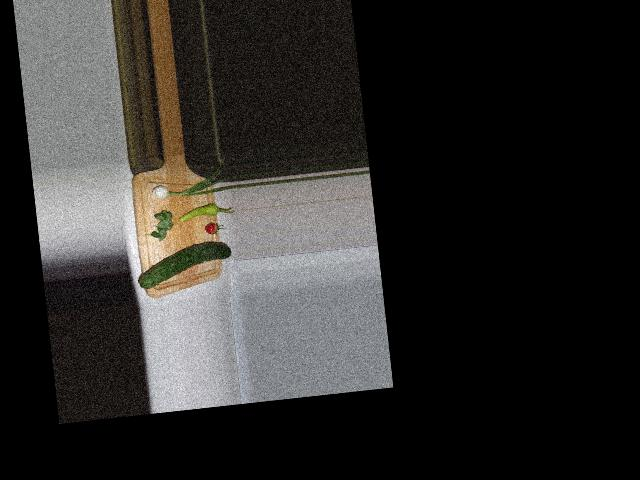cucumber: (135, 240, 233, 289)
